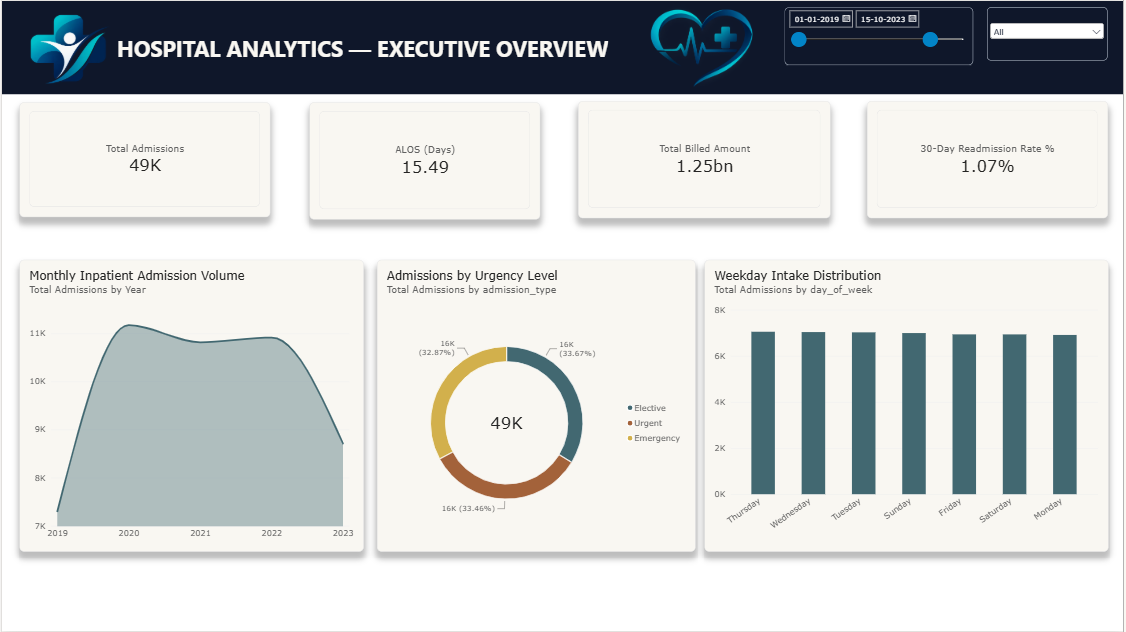

Layout of this report page (visuals, bound fields, positions):
{"tool":"powerbi","page":{"name":"Page 1","canvas":[1920,1080],"ordinal":0},"visuals":[{"type":"shape","box":[0,0,1920.4,159.7],"z":0},{"type":"cardVisual","fields":{"Data":["_Measures.Total Admissions"]},"box":[30.6,172.4,429.9,196.4],"z":1000},{"type":"cardVisual","fields":{"Data":["_Measures.ALOS (Days)"]},"box":[525.9,172.4,395,200.8],"z":2000},{"type":"cardVisual","fields":{"Data":["_Measures.Total Billed Amount"]},"box":[986.4,170.2,432.1,200.8],"z":3000},{"type":"cardVisual","fields":{"Data":["_Measures.30-Day Readmission Rate %"]},"box":[1481.8,170.2,412.5,200.8],"z":4000},{"type":"areaChart","title":"Monthly Inpatient Admission Volume","fields":{"Category":["Dim_Date.year_month.Variation.Date Hierarchy.Year","Dim_Date.year_month.Variation.Date Hierarchy.Quarter","Dim_Date.year_month.Variation.Date Hierarchy.Month","Dim_Date.year_month.Variation.Date Hierarchy.Day"],"Y":["_Measures.Total Admissions"]},"box":[30.6,443,589.2,499.8],"z":5000},{"type":"donutChart","title":"Admissions by Urgency Level","fields":{"Category":["Fact_Admissions.admission_type"],"Y":["_Measures.Total Admissions"]},"box":[641.6,443,545.6,499.8],"z":6000},{"type":"columnChart","title":"Weekday Intake Distribution","fields":{"Category":["Dim_Date.day_of_week"],"Y":["_Measures.Total Admissions"]},"box":[1202.5,443,691.8,499.8],"z":7000},{"type":"slicer","fields":{"Values":["Dim_Date.date"]},"box":[1340.2,10.1,323.4,99.1],"z":8000},{"type":"slicer","fields":{"Values":["Fact_Admissions.admission_type"]},"box":[1687.9,10.1,206.2,91],"z":9000},{"type":"image","box":[0,10.9,227,148.4],"z":9001},{"type":"image","box":[1040.5,0,299,159.3],"z":9002}]}

Visuals, with their boxes in screenshot pixels (x1, y1, x2, y2), scaled from the page's 1920x1080 canvas onto the 1126x632 screenshot:
shape: [left=0, top=0, right=1125, bottom=93]
cardVisual - _Measures.Total Admissions: [left=18, top=101, right=270, bottom=216]
cardVisual - _Measures.ALOS (Days): [left=308, top=101, right=540, bottom=218]
cardVisual - _Measures.Total Billed Amount: [left=578, top=100, right=832, bottom=217]
cardVisual - _Measures.30-Day Readmission Rate %: [left=869, top=100, right=1111, bottom=217]
"Monthly Inpatient Admission Volume" areaChart: [left=18, top=259, right=363, bottom=552]
"Admissions by Urgency Level" donutChart: [left=376, top=259, right=696, bottom=552]
"Weekday Intake Distribution" columnChart: [left=705, top=259, right=1111, bottom=552]
slicer - Dim_Date.date: [left=786, top=6, right=976, bottom=64]
slicer - Fact_Admissions.admission_type: [left=990, top=6, right=1111, bottom=59]
image: [left=0, top=6, right=133, bottom=93]
image: [left=610, top=0, right=786, bottom=93]
